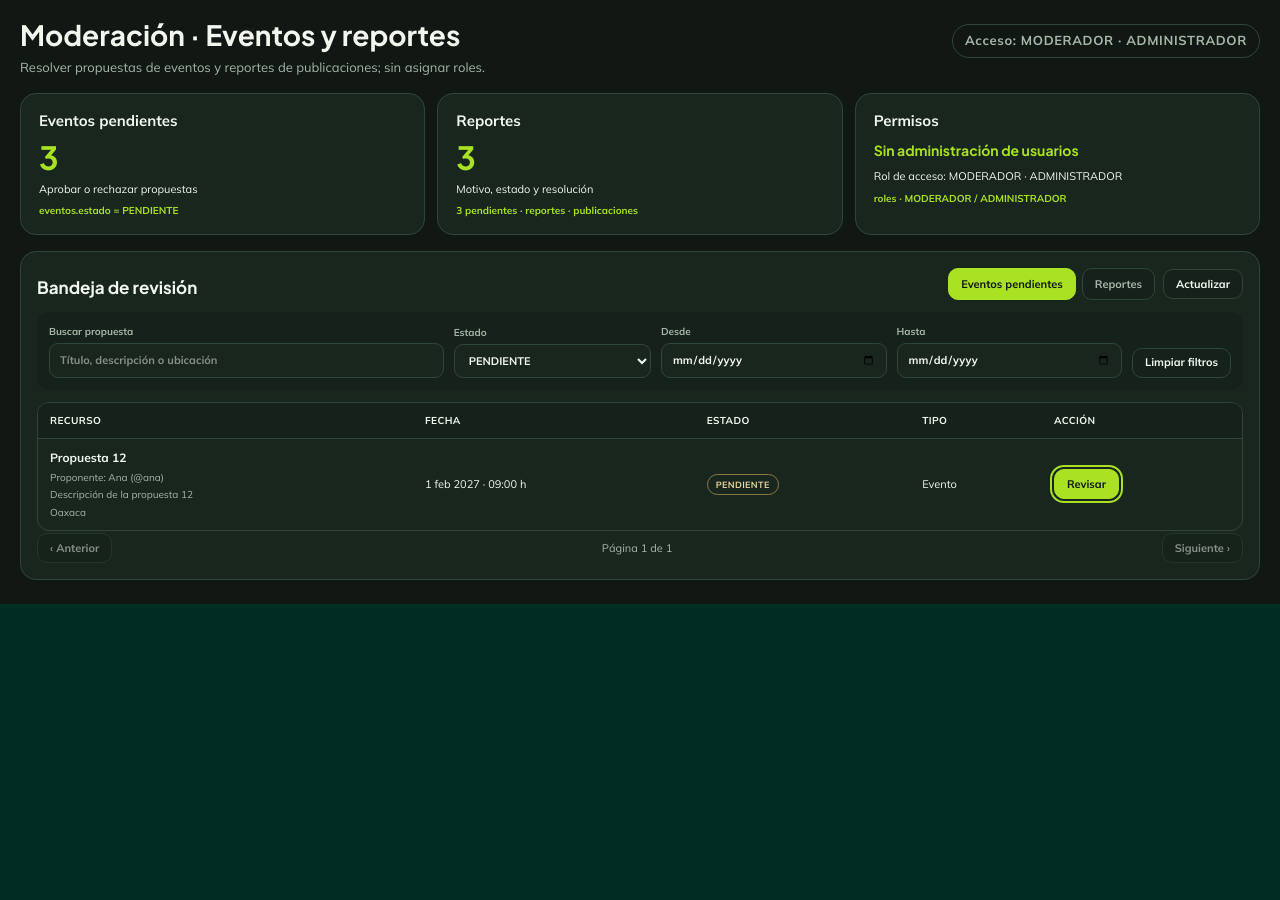
Test: Moderación 085: panel funcional › cancela decisiones sin escribir y restaura el foco del botón
The width and height of the screenshot is (1280, 900).
Click the button "Revisar" at (1086, 484), box 1054,469 -> 1119,499
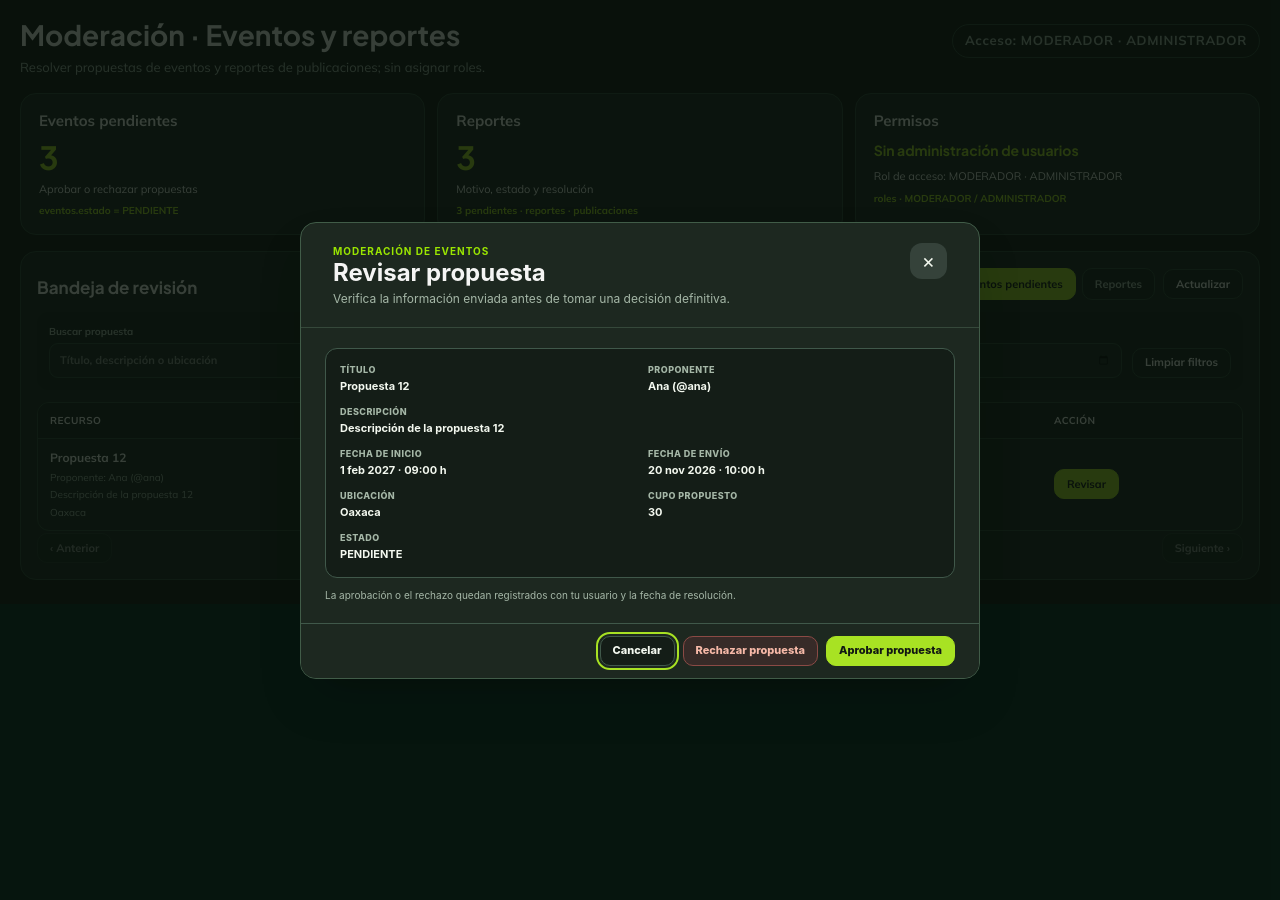
expect the dialog "Revisar propuesta" is shown: met, box 300,222 -> 980,678
Press Escape
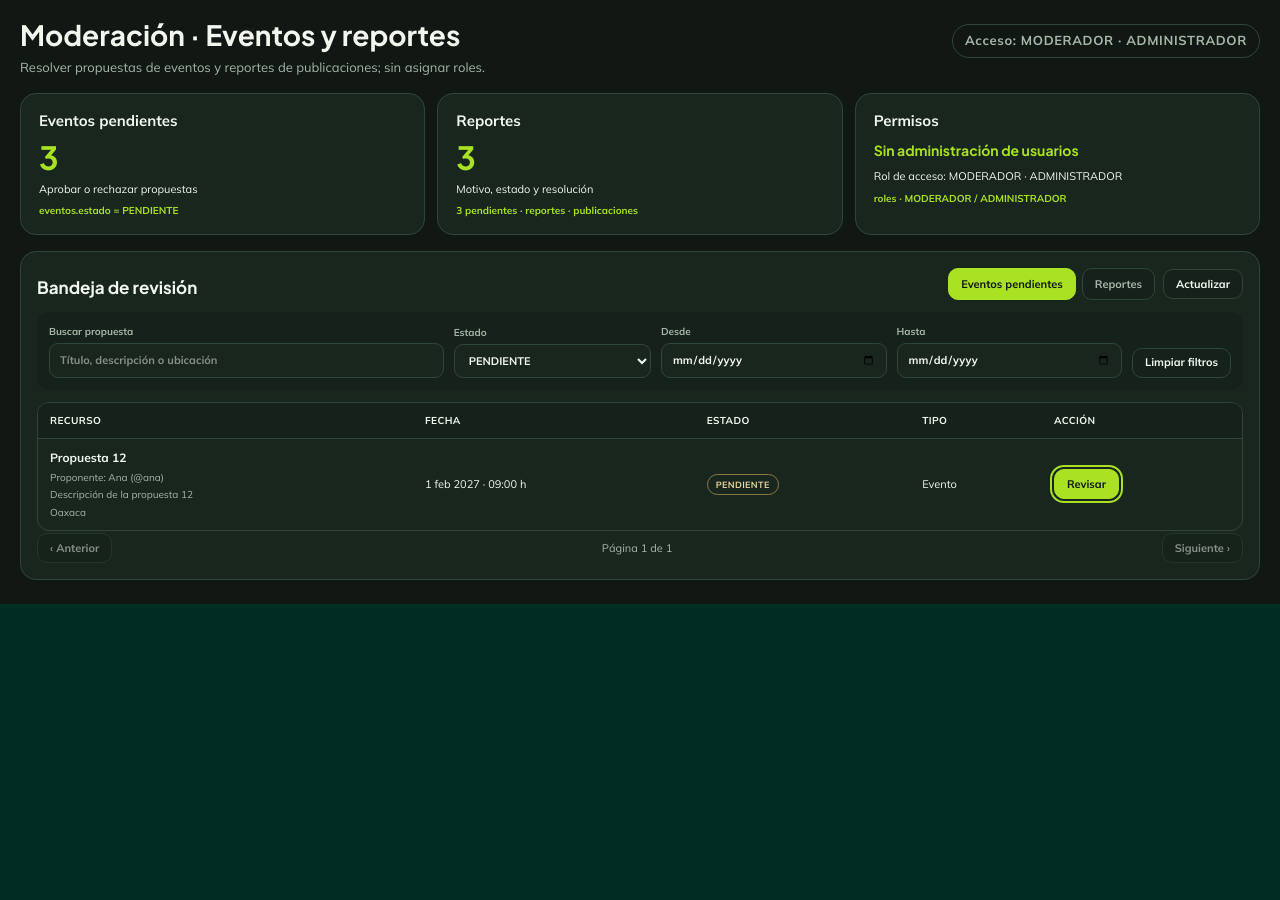
expect the dialog is gone: met
Click the button "Revisar" at (1086, 484), box 1054,469 -> 1119,499
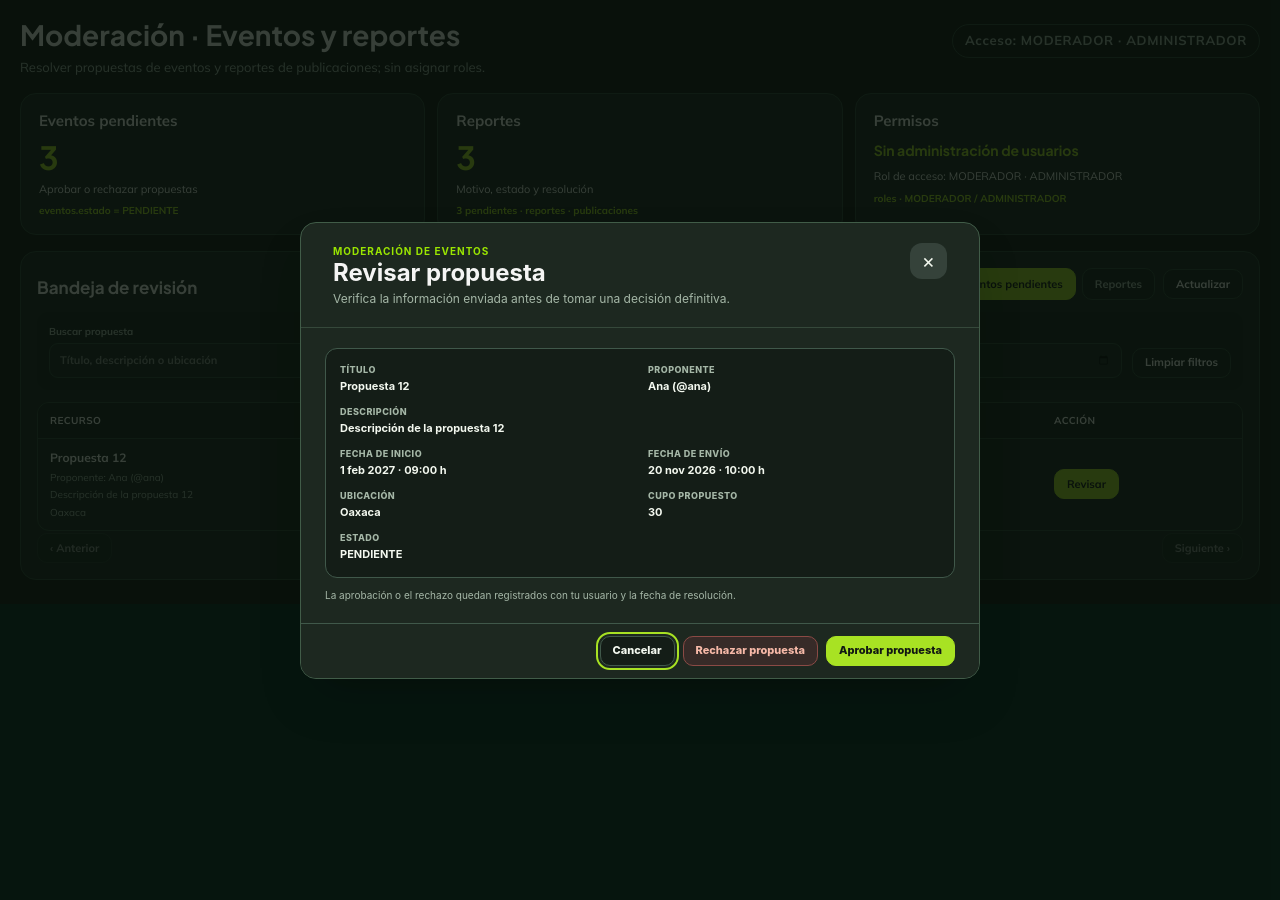
Click the button "Rechazar propuesta" at (750, 650), box 682,636 -> 818,666
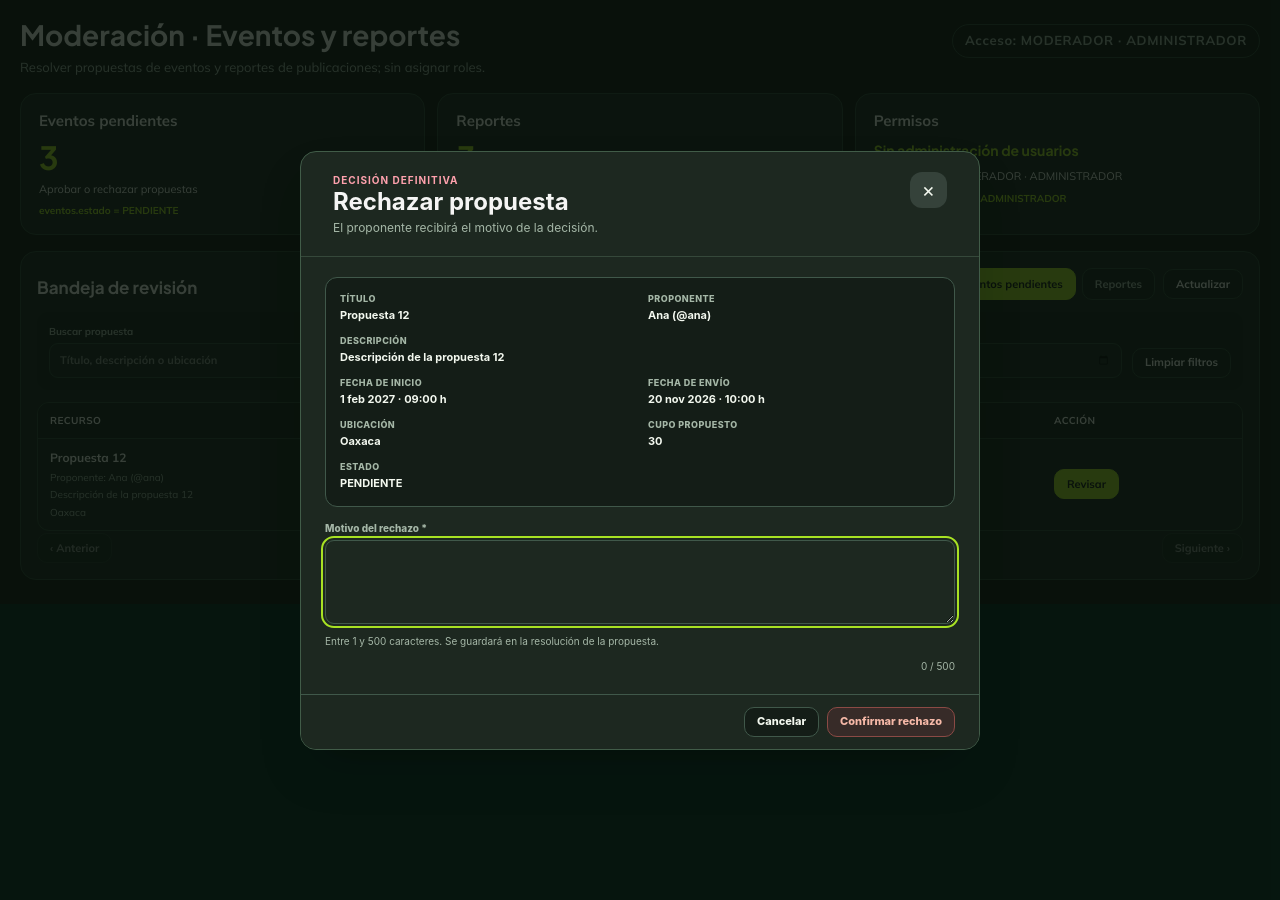
Click the button "Cancelar" at (782, 722), box 744,706 -> 819,736
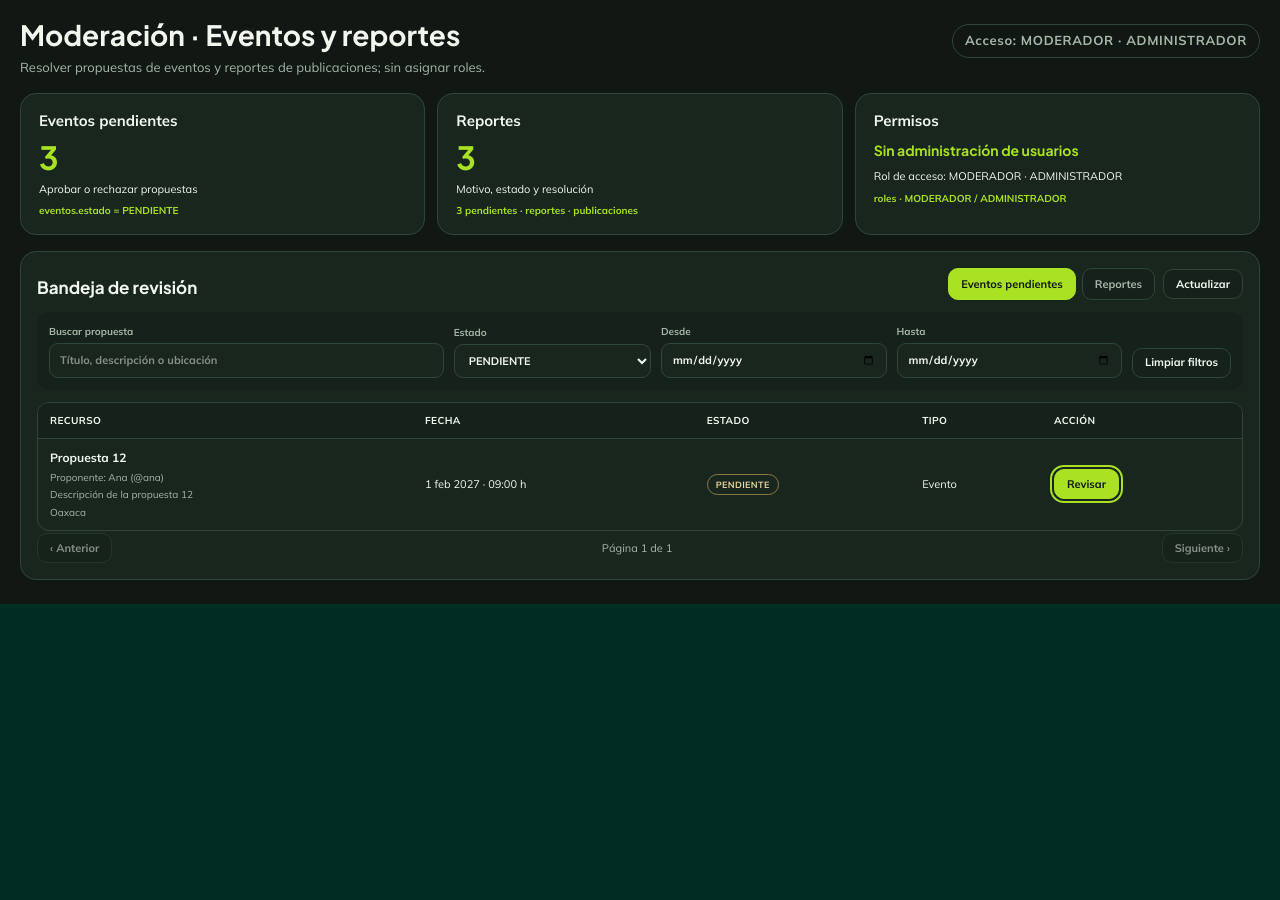
expect the dialog is gone: met
